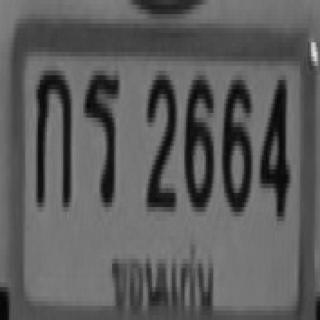A01: (34, 66, 71, 202)
A35: (83, 71, 117, 202)
N02: (144, 70, 174, 207)
N04: (258, 75, 288, 217)
N06: (182, 70, 212, 207), (220, 75, 250, 207)
P18: (108, 236, 219, 320)
